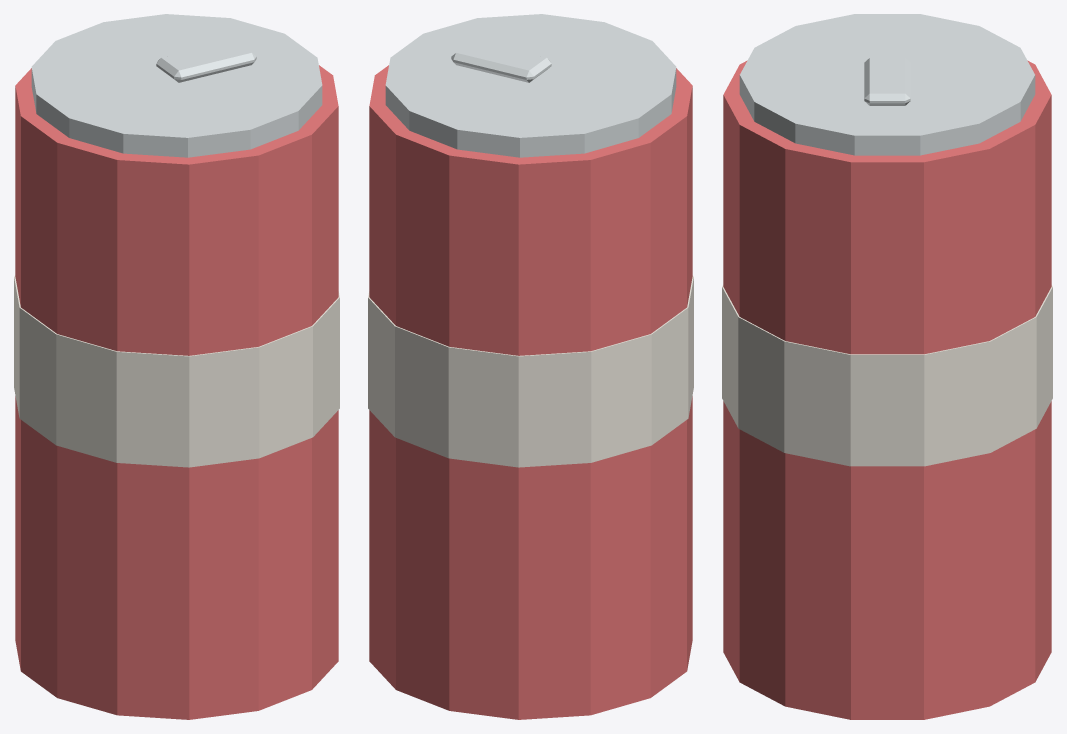
File: Soda.glb
The picture shows the model from 3 angles, left to right: view 1: azimuth 30°, elevation 25°; view 2: azimuth 150°, elevation 25°; view 3: azimuth 270°, elevation 25°; orthographic projection.
Parts seen in each view (by area): view 1: Visual; view 2: Visual; view 3: Visual.
Boxes of the visible parts, bbox=[...] form: Visual: bbox=[14, 14, 339, 719]; Visual: bbox=[368, 14, 693, 719]; Visual: bbox=[722, 14, 1052, 719].
Bounding box in the file's own units: 0.2359 × 0.477 × 0.242.
